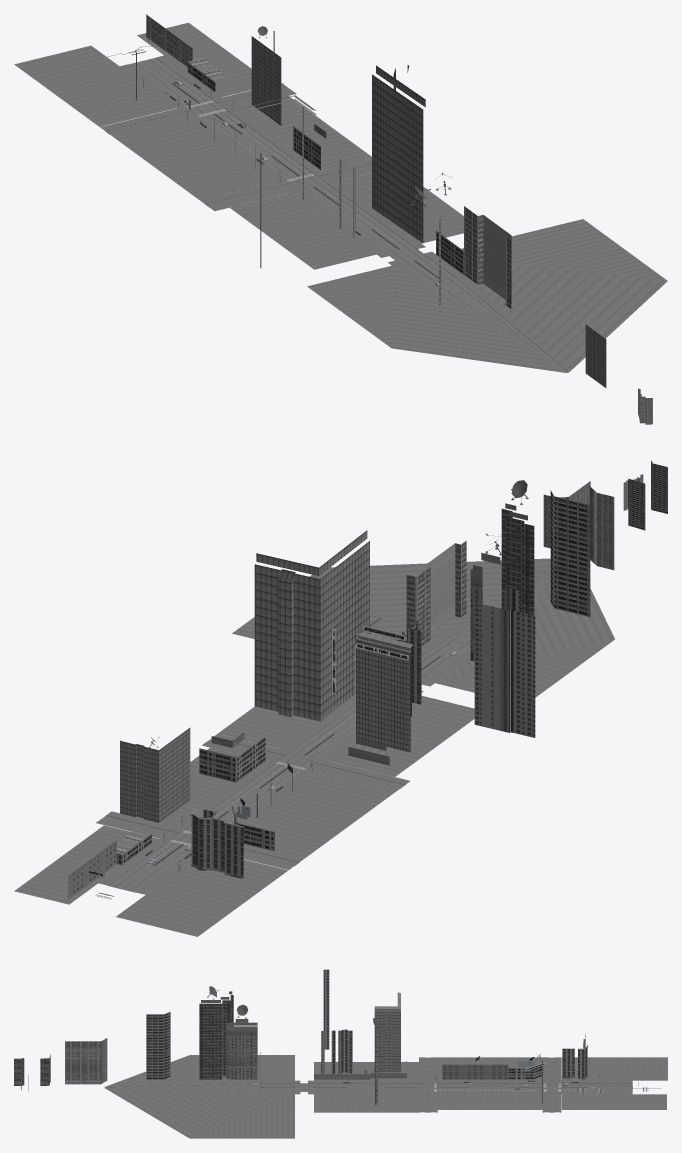
File: carpenter.glb
3 views of the same model, one above another, from view 1: azimuth 30°, elevation 25°; view 2: azimuth 150°, elevation 25°; view 3: azimuth 270°, elevation 25° (orthographic). The views are drawn at different scales.
Parts seen in each view (by area): view 1: BLOCK, BUILDING_A_01, STREET; view 2: BUILDING_A_01, BLOCK, STREET; view 3: BLOCK, BUILDING_A_01, STREET.
Part boxes in pixels (<box>): BLOCK: <box>14,22,667,372</box>; BUILDING_A_01: <box>104,14,652,424</box>; STREET: <box>100,55,569,372</box>; BUILDING_A_01: <box>68,460,667,899</box>; BLOCK: <box>14,558,614,936</box>; STREET: <box>96,570,550,894</box>; BLOCK: <box>105,1055,667,1138</box>; BUILDING_A_01: <box>14,969,661,1104</box>; STREET: <box>104,1057,632,1112</box>.
Bounding box in the file's own units: 215 × 94.92 × 622.
36 materials, 20 textured.
